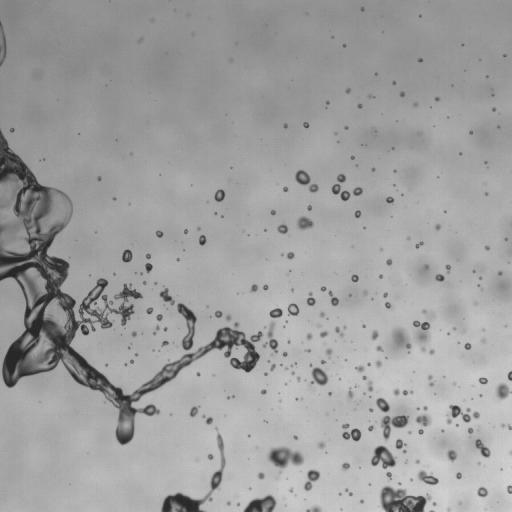droplet: (267, 446, 303, 469), (380, 415, 408, 440), (446, 405, 479, 424), (371, 445, 396, 469), (332, 174, 350, 201), (392, 327, 411, 349), (309, 364, 328, 386), (342, 423, 361, 441), (417, 470, 438, 484), (495, 383, 511, 400), (159, 288, 174, 304), (297, 216, 313, 229), (375, 398, 389, 412), (415, 414, 431, 426), (288, 303, 299, 315), (122, 249, 132, 262), (269, 308, 282, 318), (214, 189, 224, 201), (306, 292, 315, 305), (395, 438, 405, 449), (477, 486, 487, 497), (447, 450, 456, 461), (277, 224, 287, 233), (202, 415, 212, 424), (190, 406, 198, 417), (352, 187, 362, 195), (199, 235, 206, 245), (371, 330, 378, 340), (367, 380, 373, 391), (347, 389, 353, 400), (145, 263, 152, 272), (435, 274, 444, 281), (325, 348, 332, 357), (355, 365, 364, 372), (478, 377, 487, 384), (386, 196, 394, 203), (286, 252, 294, 259), (351, 274, 358, 282), (250, 284, 257, 292), (342, 462, 349, 470), (354, 210, 361, 217), (146, 307, 153, 314), (215, 310, 222, 317), (320, 331, 328, 337), (317, 442, 325, 448), (445, 264, 450, 273), (156, 230, 162, 237), (156, 314, 162, 321), (306, 333, 312, 340), (162, 340, 169, 346), (375, 360, 381, 367), (258, 472, 264, 479), (464, 343, 470, 349), (376, 345, 382, 351), (368, 425, 374, 431), (386, 472, 391, 479), (507, 485, 511, 493), (386, 259, 391, 265), (385, 302, 390, 308), (226, 315, 231, 321), (428, 349, 434, 354), (270, 364, 275, 370), (468, 427, 473, 433), (456, 472, 461, 478), (345, 88, 350, 93), (303, 122, 308, 127), (435, 224, 440, 229), (263, 285, 268, 290), (321, 286, 326, 291), (131, 331, 136, 336), (261, 389, 266, 394), (418, 429, 423, 434), (208, 454, 213, 459), (400, 91, 404, 96), (357, 104, 362, 108), (283, 186, 287, 191), (307, 205, 311, 210), (271, 210, 275, 215), (485, 245, 489, 250), (320, 312, 324, 317), (481, 338, 485, 343), (282, 352, 287, 356), (296, 376, 300, 381), (422, 406, 427, 410), (418, 58, 422, 62), (435, 97, 439, 101), (97, 176, 101, 180), (146, 254, 150, 258), (424, 264, 428, 268), (498, 271, 502, 275), (383, 293, 387, 297), (452, 326, 456, 330), (321, 360, 325, 364), (369, 408, 373, 412), (293, 435, 297, 439), (289, 488, 293, 492), (226, 501, 230, 505), (368, 95, 373, 98), (414, 102, 417, 106), (283, 124, 287, 127), (10, 128, 14, 131), (379, 274, 382, 278), (364, 291, 367, 295), (163, 327, 167, 330), (362, 376, 366, 379), (416, 459, 419, 463), (360, 499, 363, 503), (509, 450, 511, 455), (392, 81, 395, 84), (469, 131, 472, 134), (184, 230, 187, 233), (143, 281, 146, 284), (317, 324, 320, 327), (462, 329, 465, 332), (130, 360, 133, 363), (196, 372, 199, 375), (403, 450, 406, 453), (432, 502, 435, 505), (447, 508, 450, 511), (343, 44, 345, 47), (326, 101, 329, 103), (492, 108, 495, 110), (345, 126, 347, 129), (351, 156, 353, 159), (372, 168, 374, 171), (113, 197, 115, 200), (407, 236, 409, 239), (472, 270, 475, 272), (343, 326, 346, 328), (306, 349, 309, 351), (135, 353, 137, 356), (367, 363, 370, 365), (292, 364, 295, 366), (265, 372, 267, 375), (291, 372, 294, 374), (328, 393, 331, 395), (408, 431, 411, 433), (361, 8, 363, 10), (139, 39, 141, 41), (214, 212, 216, 214), (479, 277, 481, 279), (288, 340, 290, 342), (479, 394, 481, 396), (417, 407, 419, 409), (478, 462, 480, 464), (237, 503, 239, 505)
ligament: (0, 130, 262, 445), (161, 430, 225, 511), (379, 486, 431, 511), (413, 309, 435, 353), (243, 494, 276, 511), (295, 170, 318, 192), (263, 321, 278, 353), (304, 469, 319, 491), (0, 21, 6, 66), (475, 439, 490, 457), (328, 291, 338, 305), (393, 388, 413, 395), (306, 505, 321, 511), (335, 327, 343, 336), (415, 241, 423, 248), (428, 375, 433, 386), (501, 424, 511, 429), (153, 326, 159, 334), (345, 489, 352, 495), (507, 371, 511, 381), (430, 510, 434, 511)
